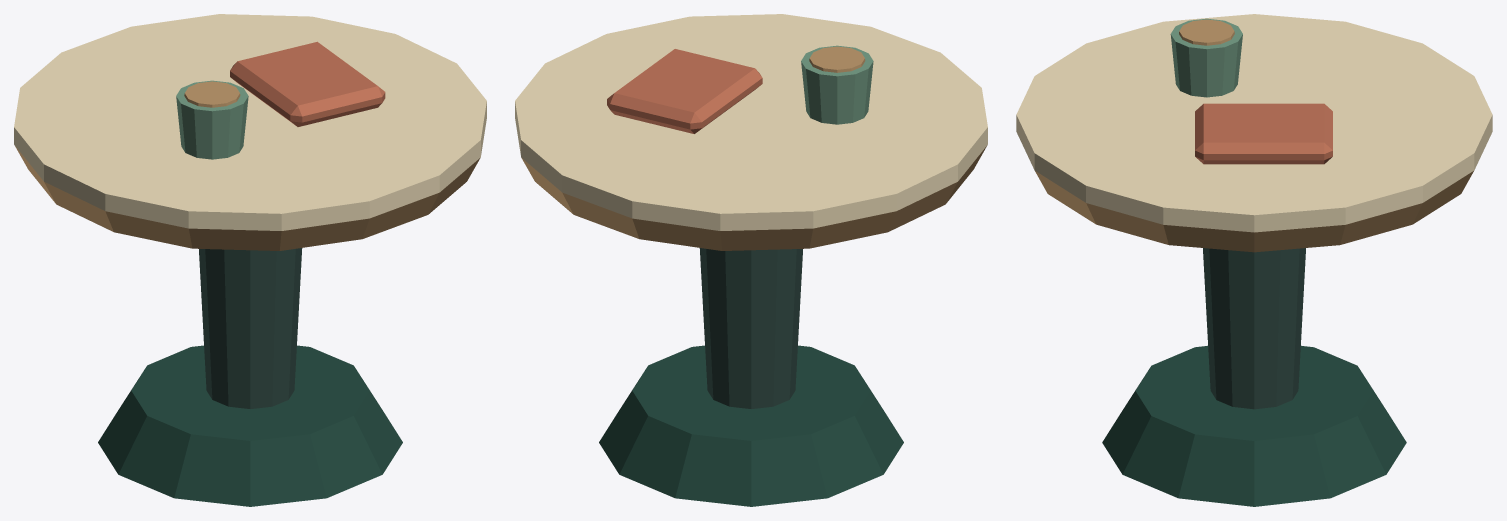
File: table.glb
3 renders of one model, left to right at view 1: azimuth 30°, elevation 25°; view 2: azimuth 150°, elevation 25°; view 3: azimuth 270°, elevation 25°, orthographic.
Visible parts, largest first — view 1: cream_Asset_table, deep_Asset_table, outline_Asset_table, wood_Asset_table, earth_Asset_table, sage_Asset_table; view 2: cream_Asset_table, deep_Asset_table, outline_Asset_table, wood_Asset_table, earth_Asset_table, sage_Asset_table; view 3: cream_Asset_table, deep_Asset_table, outline_Asset_table, wood_Asset_table, earth_Asset_table, sage_Asset_table.
Part boxes in pixels (x1,y1,x2,y2): cream_Asset_table: (14, 14, 486, 230); deep_Asset_table: (98, 345, 402, 506); outline_Asset_table: (199, 248, 302, 408); wood_Asset_table: (14, 81, 480, 250); earth_Asset_table: (230, 41, 385, 126); sage_Asset_table: (176, 80, 248, 159); cream_Asset_table: (515, 14, 987, 230); deep_Asset_table: (599, 345, 903, 506); outline_Asset_table: (699, 248, 802, 408); wood_Asset_table: (521, 46, 987, 250); earth_Asset_table: (607, 49, 762, 133); sage_Asset_table: (801, 45, 873, 124); cream_Asset_table: (1016, 14, 1492, 232); deep_Asset_table: (1102, 345, 1406, 506); outline_Asset_table: (1203, 248, 1305, 409); wood_Asset_table: (1035, 19, 1473, 252); earth_Asset_table: (1195, 103, 1332, 164); sage_Asset_table: (1170, 18, 1242, 97).
Bounding box in the file's own units: 1 × 0.8835 × 1.
